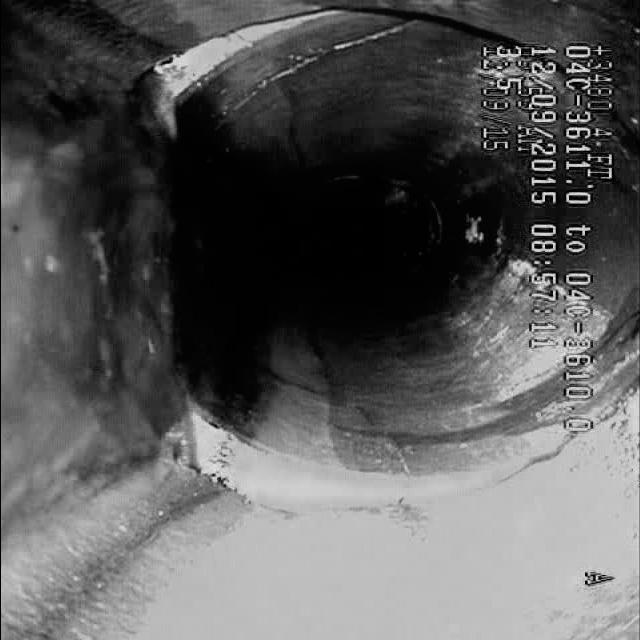Crack: (214, 17, 434, 99)
